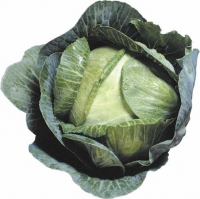cabbage: (0, 1, 199, 198)
